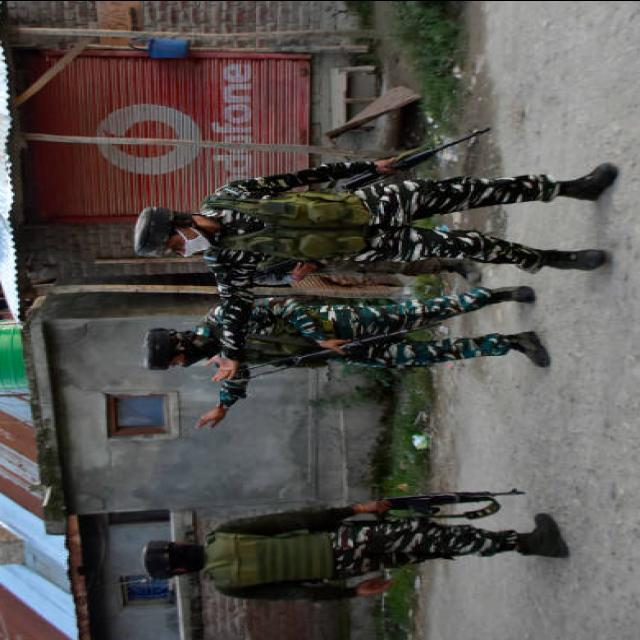soldier: (135, 157, 615, 378), (144, 286, 548, 426), (141, 500, 566, 602)
